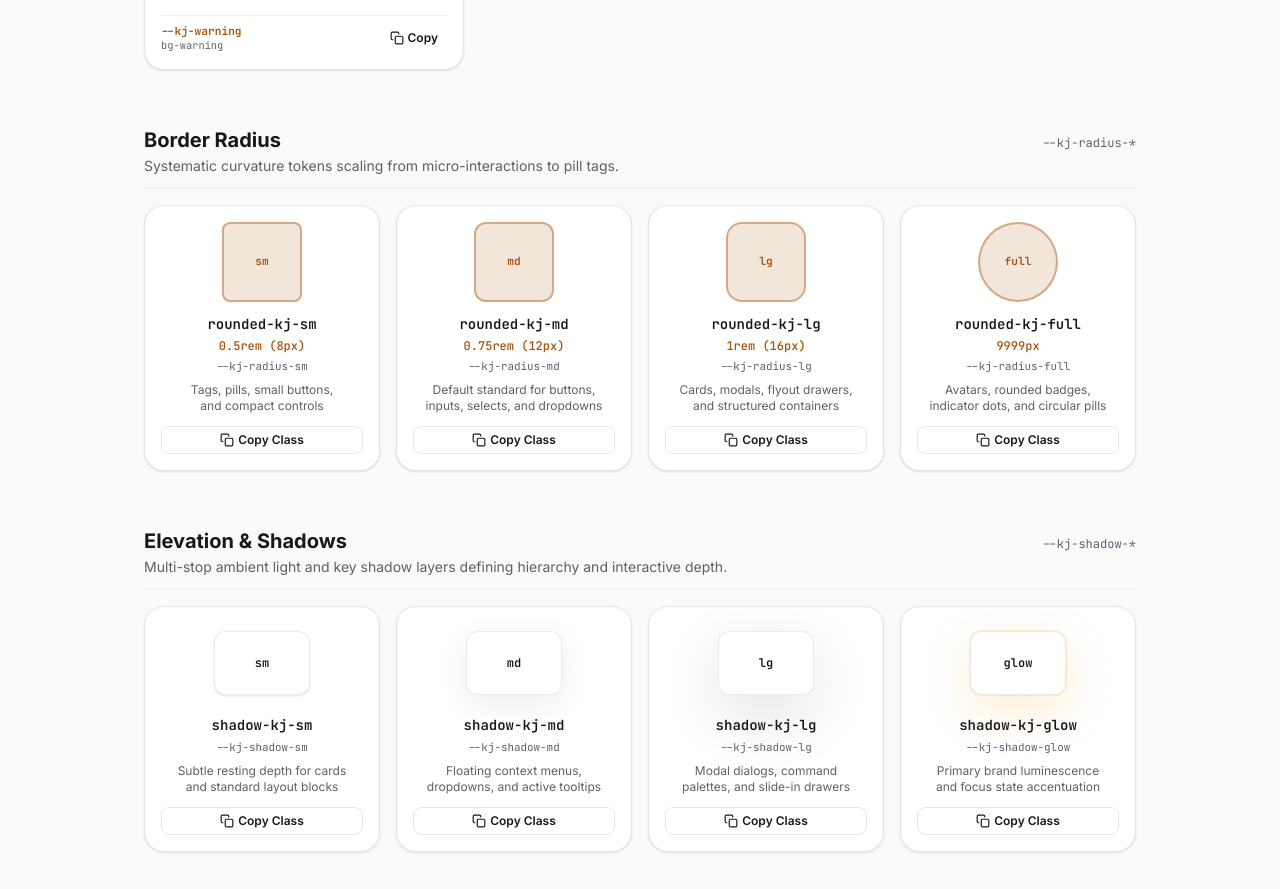
Scenario: TokensView › copies radius token class via the copy button target
The image size is (1280, 889).
(page scrolled)
Note: Click first radius token copy button
Click the button named "Copy Class" below "--kj-radius-sm" at {"x": 262, "y": 440}, box top-left (161, 426), bottom-right (363, 454)
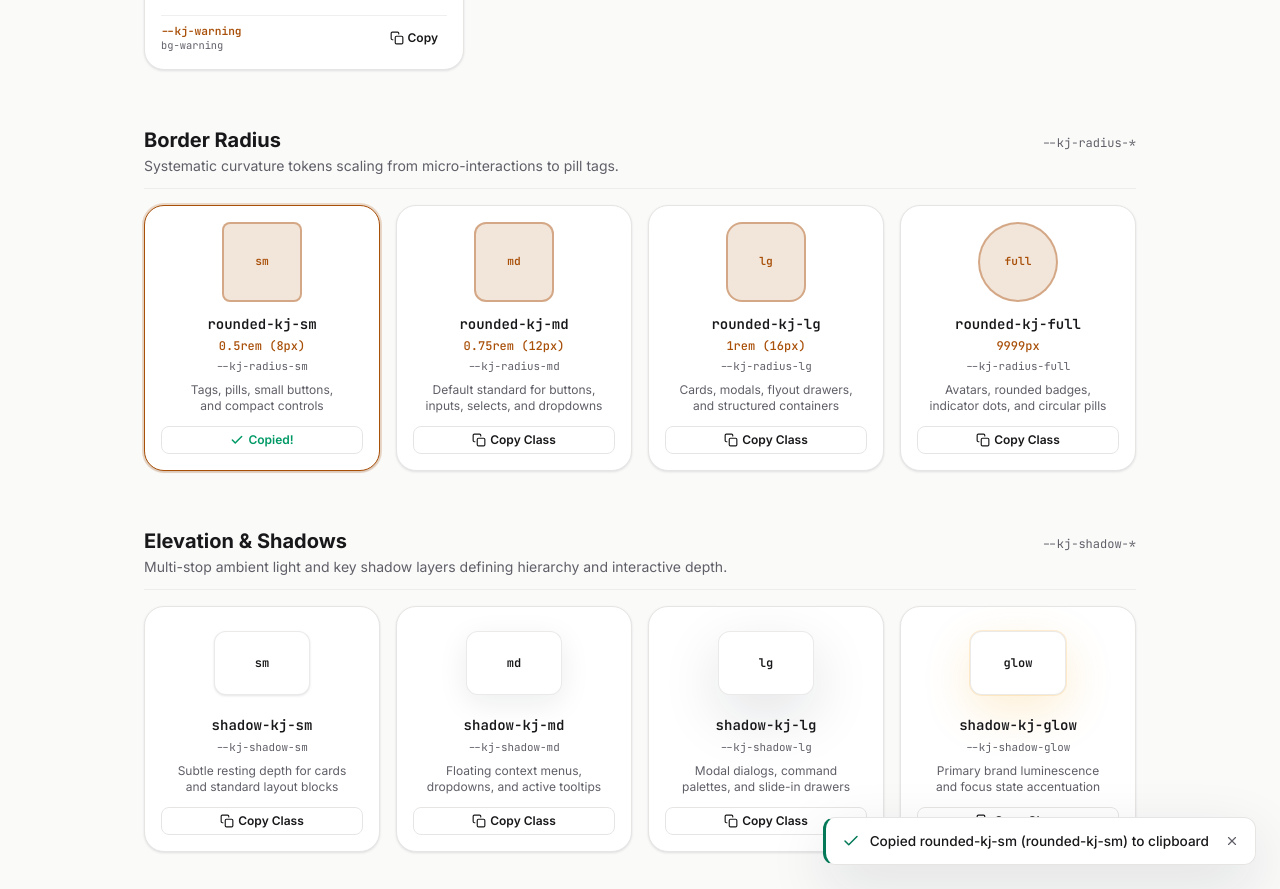
Result: the text "Copied!" is shown at top-left (230, 432), bottom-right (294, 448)
